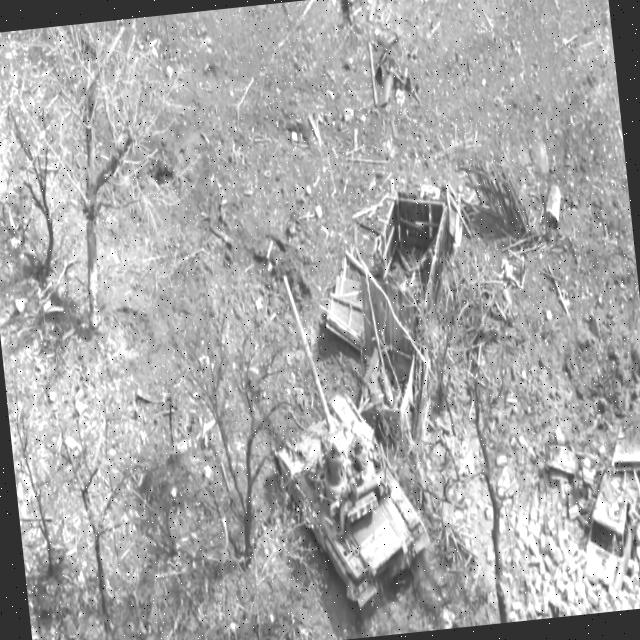MBT: (254, 262, 439, 623)
Vehicle: (573, 452, 640, 604)
